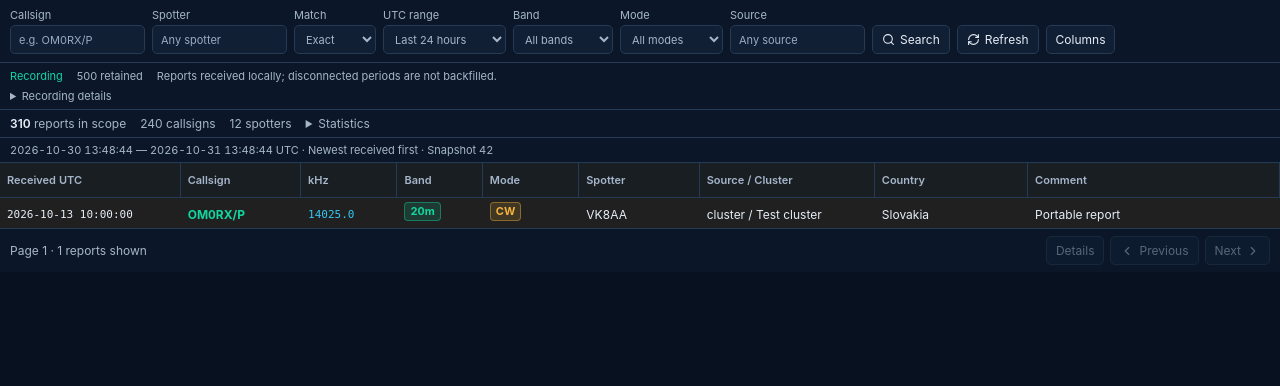
Test: Spot History scope and paging › defaults to a bounded last-24-hour UTC query and calculates full-scope statistics
Expected: the text "310" is shown, [10,116,31,131]
Expected: the text "240 callsigns" is shown, [140,116,216,131]
What coordinates should you click on to do the following:
click the heading "Statistics"
I would click on:
 (344, 124)
Its box is [318,116,370,131].
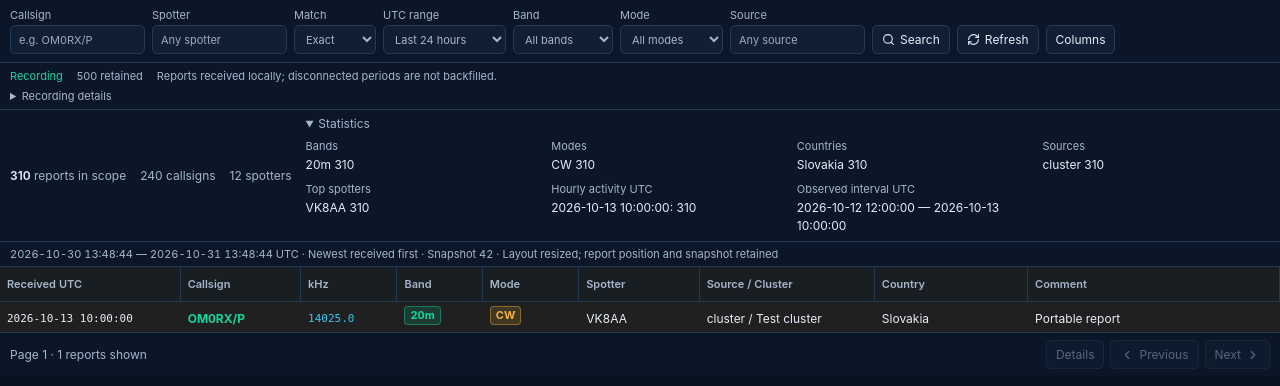
Expected: the text "Page 1 · 1 reports shown" is shown, [10,347,147,362]
Now the text "20m 310" is shown, box [306,157,354,172]
